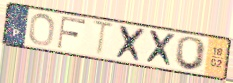F: (55, 15, 88, 51)
O: (173, 36, 209, 73), (28, 12, 57, 47)
T: (91, 19, 116, 59)
X: (114, 24, 149, 65), (144, 29, 177, 69)
